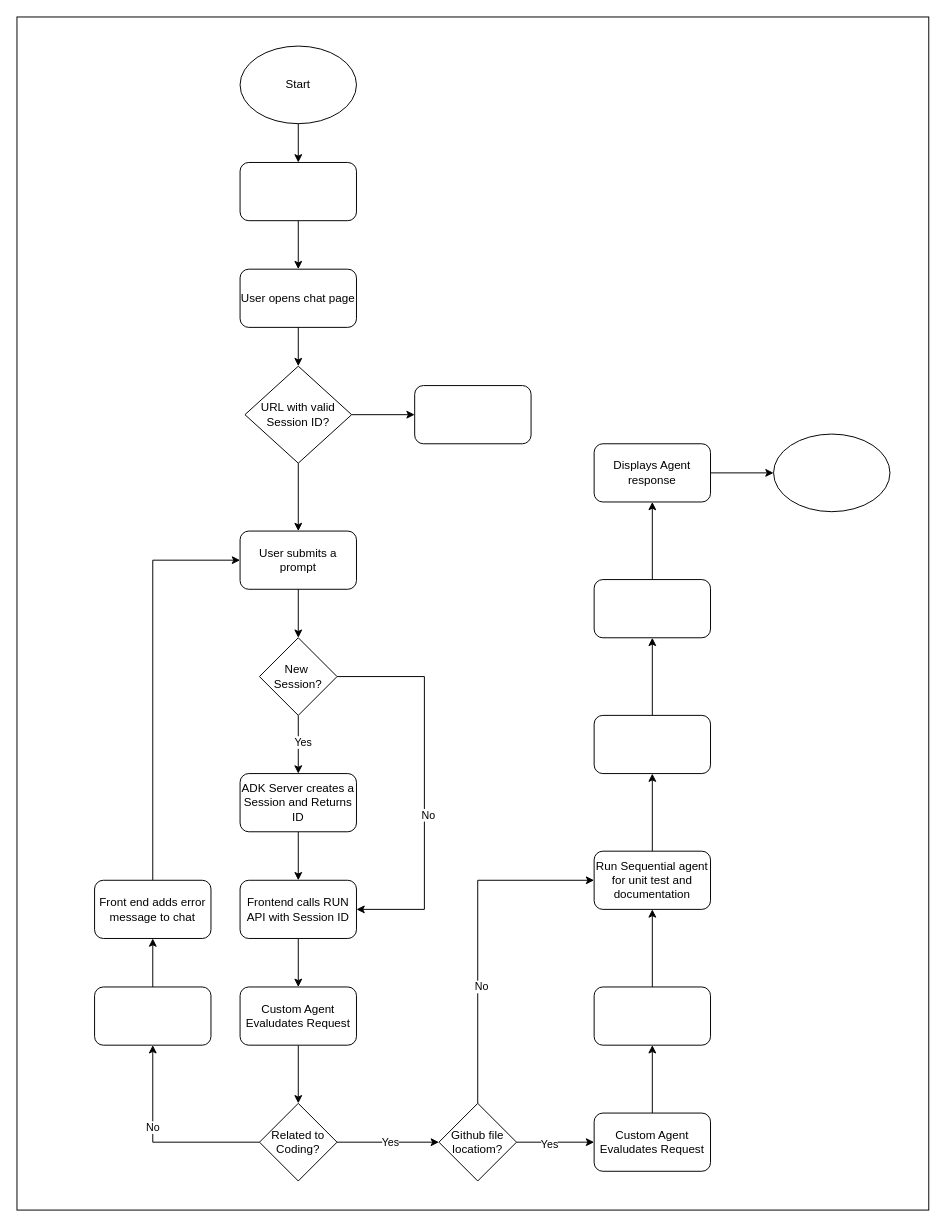
Some shapes in this 946 by 1227 pixel diagram are drawn without their labels. The box of each missing label's shape, as (x1, y1, x2, y2) in pixels:
End: (773, 433, 890, 512)
Fetch message history from Session state named history: (414, 385, 531, 444)
Reads file content: (593, 986, 711, 1045)
Returns an error message: (94, 986, 211, 1045)
Returns JSON response: (593, 579, 711, 638)
Saves user and system message in Session state named history: (593, 714, 711, 774)
User enter username for Auth: (239, 162, 356, 221)
